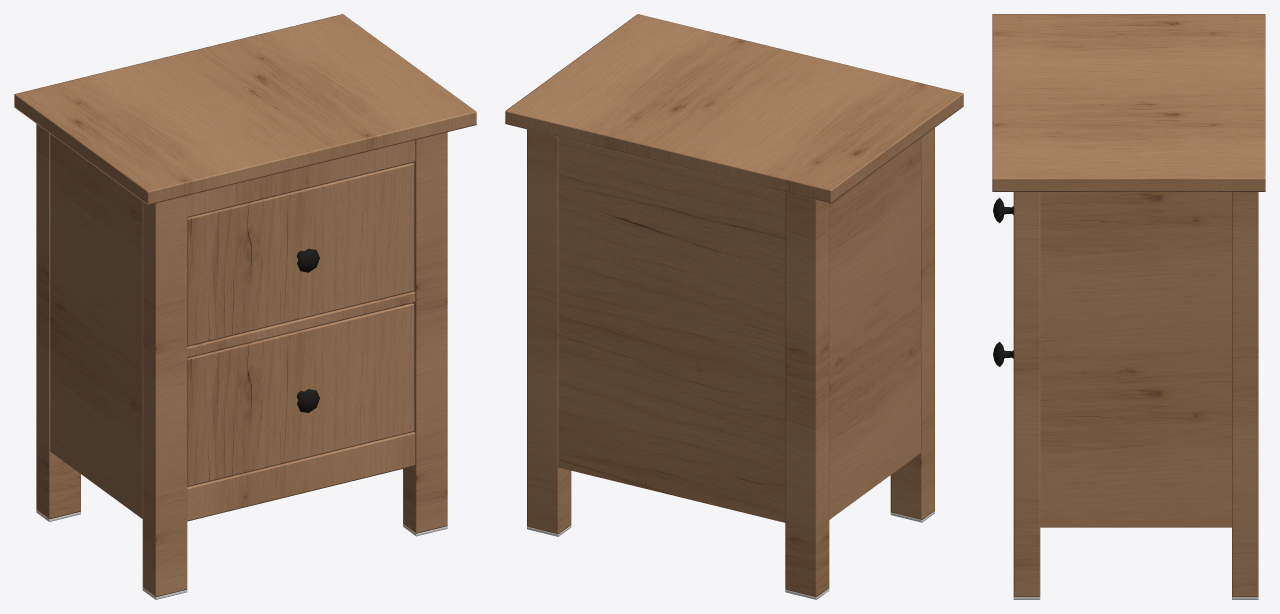
File: Drawer.fbx
3 views of the same model, side by side, from view 1: azimuth 30°, elevation 25°; view 2: azimuth 150°, elevation 25°; view 3: azimuth 270°, elevation 25° (orthographic). The views are drawn at different scales.
Visible parts, largest first — view 1: Cube.026, Handle-02, Handle-01; view 2: Cube.026; view 3: Cube.026.
Boxes of the visible parts, box(x1,y1,x2,y2) form: Cube.026: box(14, 14, 476, 599); Handle-02: box(187, 303, 414, 486); Handle-01: box(187, 163, 414, 346); Cube.026: box(505, 14, 963, 599); Cube.026: box(992, 14, 1265, 599).
Size of the model in its own units: 54 by 66 by 38.
Materials: 9 (3 with a texture image).
